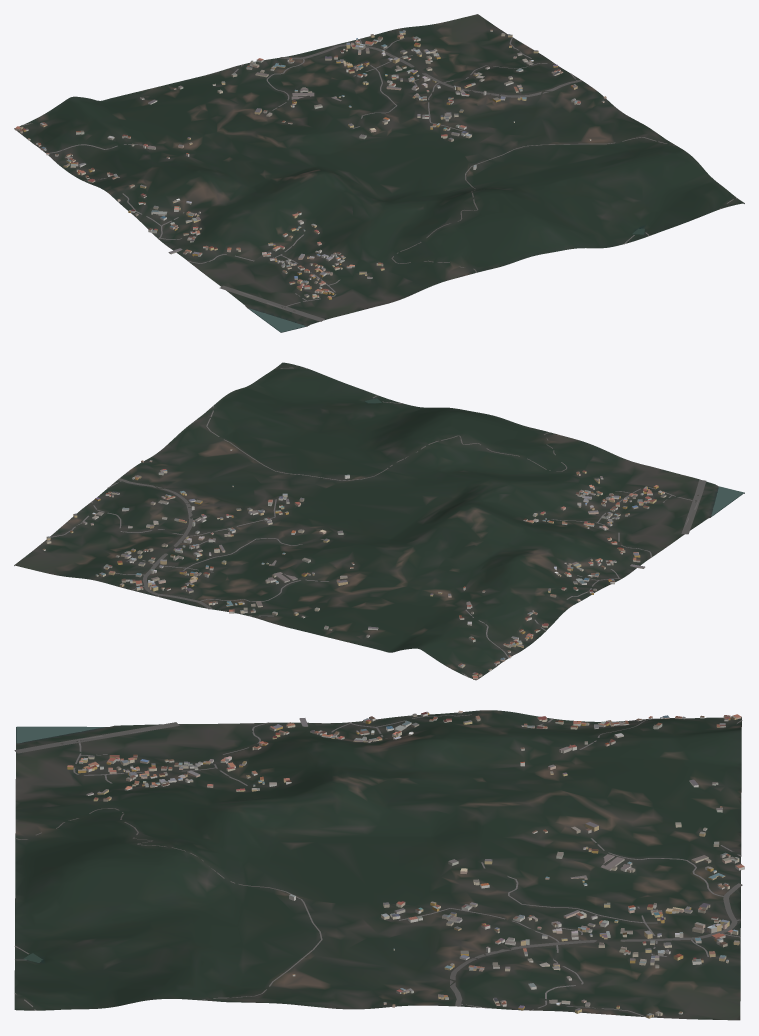
The picture shows the model from 3 angles, top to bottom: view 1: azimuth 30°, elevation 25°; view 2: azimuth 150°, elevation 25°; view 3: azimuth 270°, elevation 25°; orthographic projection. The views are drawn at different scales.
Parts seen in each view (by area): view 1: ground, buildings, roads; view 2: ground, buildings, roads; view 3: ground, buildings, roads, water.
Part boxes in pixels (x1=…): ground: x1=14, y1=14, x2=744, y2=332; buildings: x1=15, y1=29, x2=606, y2=299; roads: x1=21, y1=37, x2=736, y2=321; ground: x1=14, y1=362, x2=744, y2=680; buildings: x1=42, y1=449, x2=666, y2=679; roads: x1=50, y1=367, x2=706, y2=677; ground: x1=14, y1=710, x2=741, y2=1020; buildings: x1=67, y1=710, x2=744, y2=1018; roads: x1=14, y1=714, x2=742, y2=1017; water: x1=16, y1=726, x2=104, y2=962.
Size of the model in its own units: 1422 by 102 by 1412.
